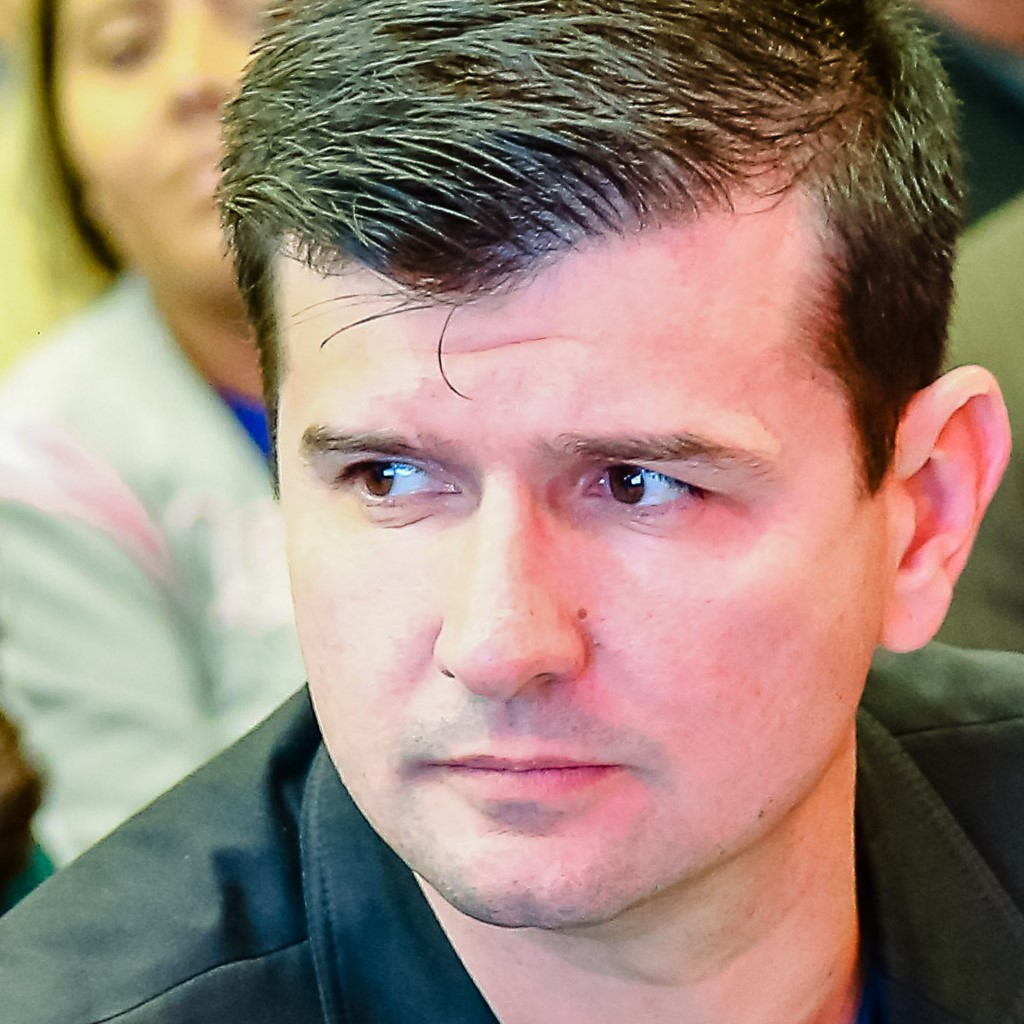sin_mascara: (250, 116, 915, 920)
